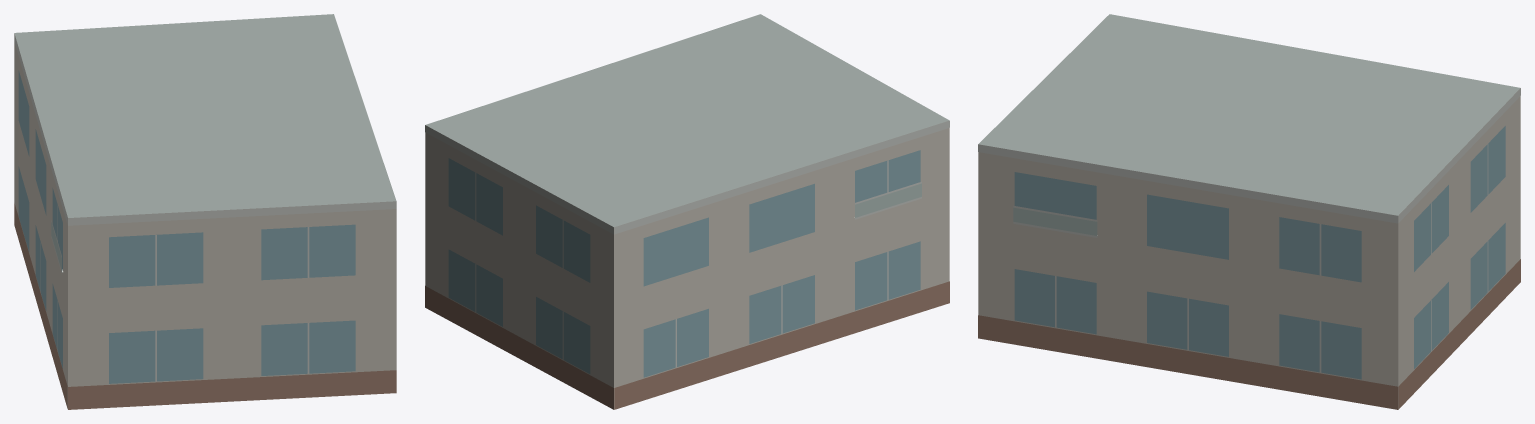
The model's file is survey-upis-32969814.glb.
The picture shows the model from 3 angles, left to right: view 1: azimuth 30°, elevation 25°; view 2: azimuth 150°, elevation 25°; view 3: azimuth 270°, elevation 25°; orthographic projection. The views are drawn at different scales.
Parts seen in each view (by area): view 1: survey-upis-32969814.tmp; view 2: survey-upis-32969814.tmp; view 3: survey-upis-32969814.tmp.
Part boxes in pixels (x1,y1,x2,y2): survey-upis-32969814.tmp: (14,14,396,409); survey-upis-32969814.tmp: (425,14,949,409); survey-upis-32969814.tmp: (978,14,1520,409).
Bounding box in the file's own units: 13.61 × 6.1 × 15.46.
